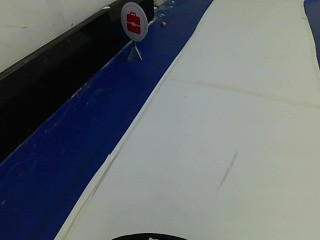company: (116, 0, 148, 45)
